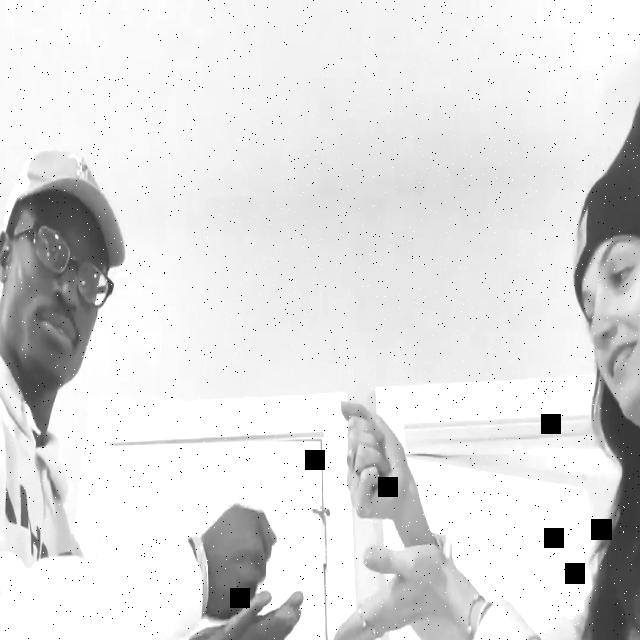Rock: (200, 499, 277, 622), (341, 402, 408, 526)
